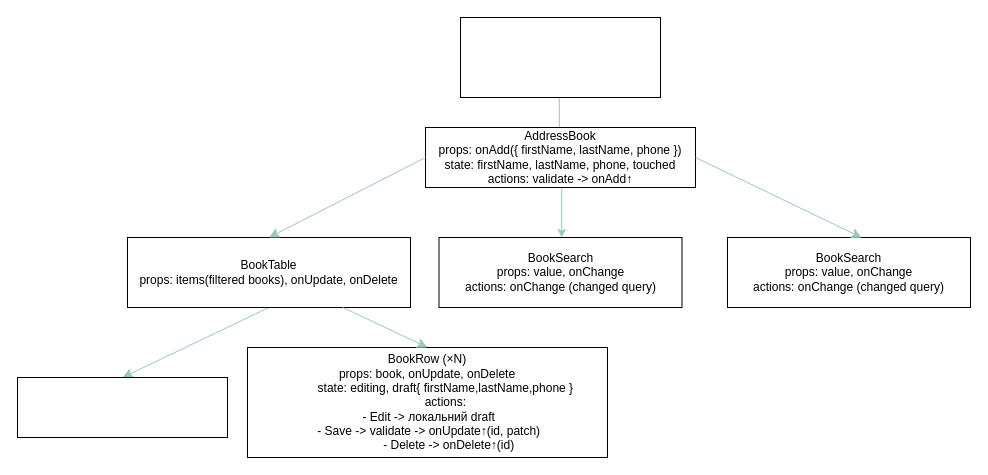
Some shapes in this 988 by 475 pixel diagram are drawn without their labels. The shapes that lost their labels are listed below. From the top down, each one's box as (x1, y1, x2, y2) in pixels, then its label:
(460, 16, 660, 98): App (root, without state and props)
(16, 376, 228, 438): EmptyState (when items.length === 0)
